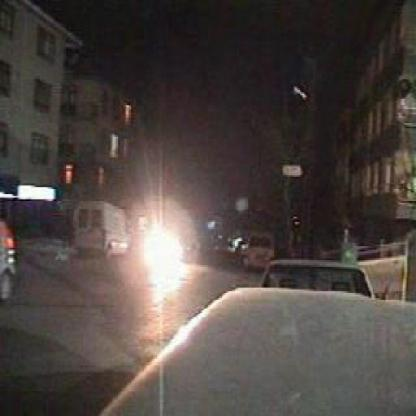other: (122, 221, 192, 283)
